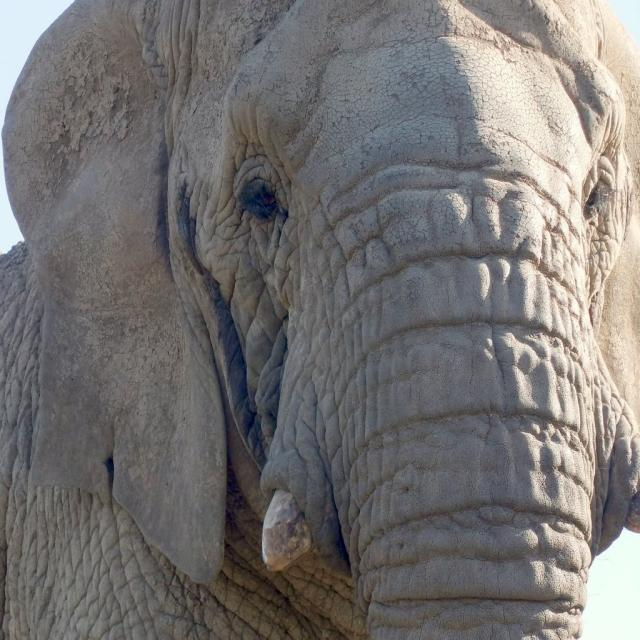Elephant: (7, 6, 640, 629)
